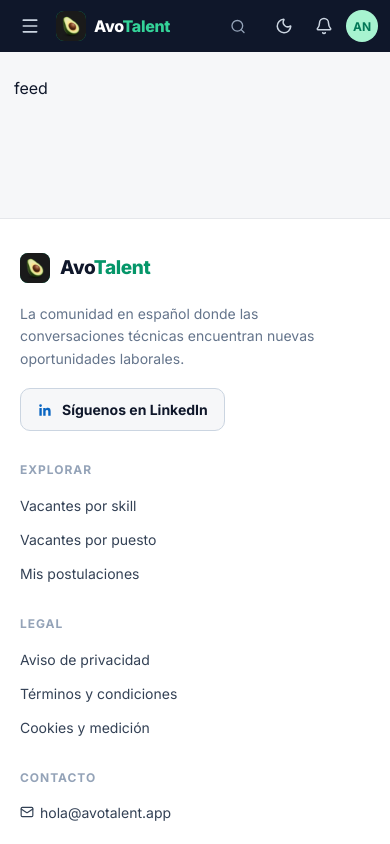
Scenario: the mobile menu › opens with the hamburger and the button becomes a close button
The width and height of the screenshot is (390, 844).
Click the button named "Abrir menú" at [30, 26], box [12,8,48,44]
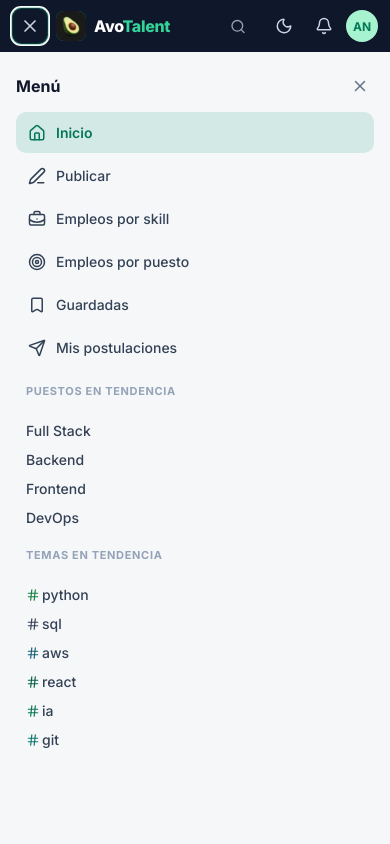
Expected: the 1st button named "Cerrar menú" is shown, [12,8,48,44]
